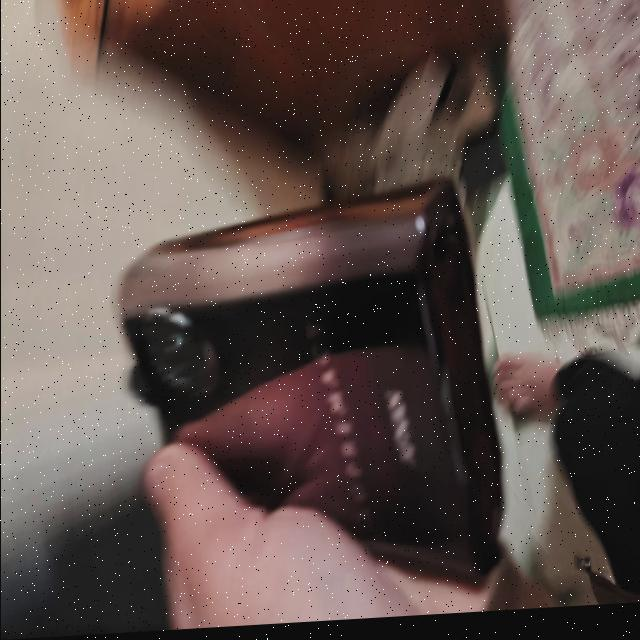Afnan: (115, 179, 503, 616)
